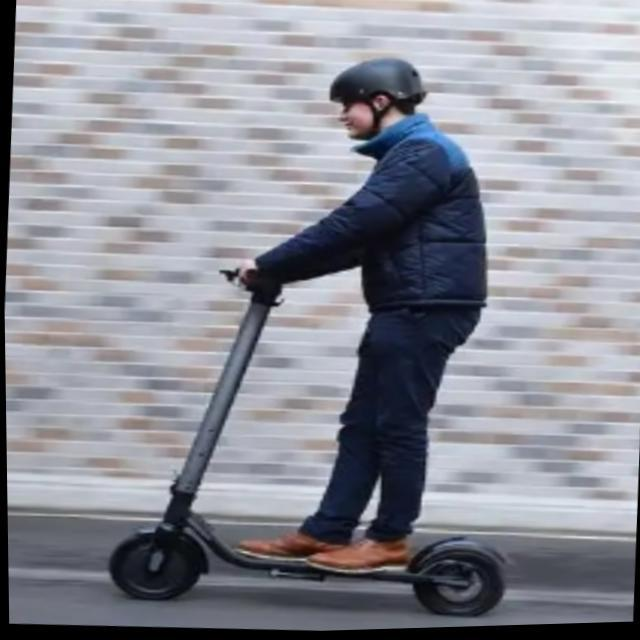Helmet: (322, 46, 436, 153)
